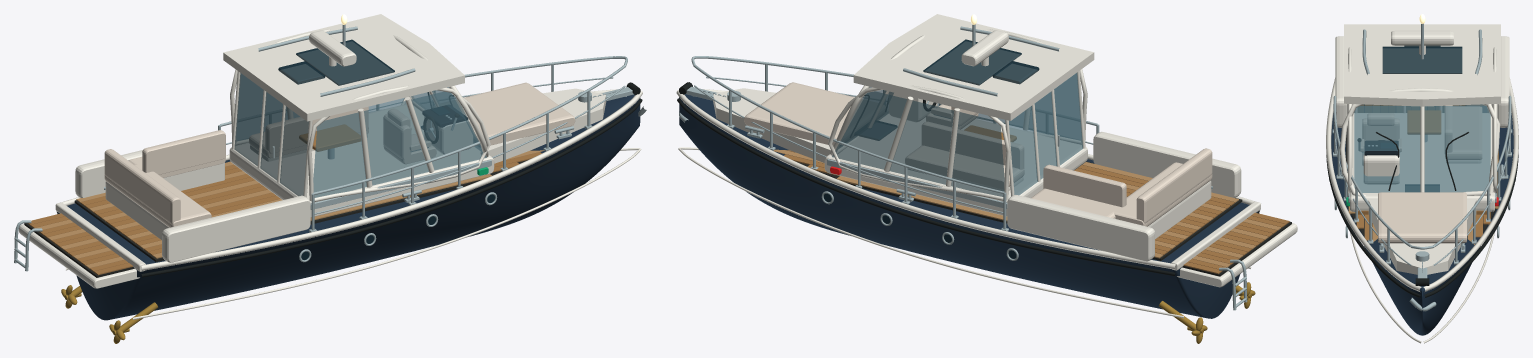
File: cabin-boat.glb
3 renders of one model, left to right at view 1: azimuth 30°, elevation 25°; view 2: azimuth 150°, elevation 25°; view 3: azimuth 270°, elevation 25°, orthographic. The views are drawn at different scales.
Parts seen in each view (by area): view 1: white, paint, glass, cushion, steel, teak, teakLight, blackGlass, rubber, teakDark, bronze; view 2: white, paint, cushion, glass, steel, teak, blackGlass, teakLight, rubber, teakDark, bronze; view 3: white, glass, cushion, paint, steel, blackGlass, rubber, teak, dark, teakDark, teakLight.
Part boxes in pixels (x1,y1,x2,y2): white: (19,14,642,319); paint: (58,94,640,320); glass: (234,73,486,197); cushion: (104,82,575,227); steel: (14,24,646,271); teak: (27,124,541,275); teakLight: (35,150,544,268); blackGlass: (278,39,495,260); rubber: (56,82,642,277); teakDark: (24,160,527,277); bronze: (61,285,158,343); white: (676,14,1297,318); paint: (679,94,1258,318); cushion: (744,82,1212,226); glass: (832,73,1082,196); steel: (679,24,1247,310); teak: (784,125,1289,274); blackGlass: (823,39,1039,258); teakLight: (773,149,1281,267); rubber: (677,82,1259,276); teakDark: (797,161,1291,276); bronze: (1159,282,1255,343); white: (1326,24,1518,343); glass: (1354,104,1490,192); cushion: (1360,105,1481,243); paint: (1331,113,1513,335); steel: (1329,24,1515,311); blackGlass: (1380,45,1462,191); rubber: (1326,132,1518,297); teak: (1356,104,1490,240); dark: (1364,141,1398,155); teakDark: (1346,104,1498,235); teakLight: (1348,105,1498,244).
Bounding box in the file's own units: 10.54 × 4.26 × 3.17.
